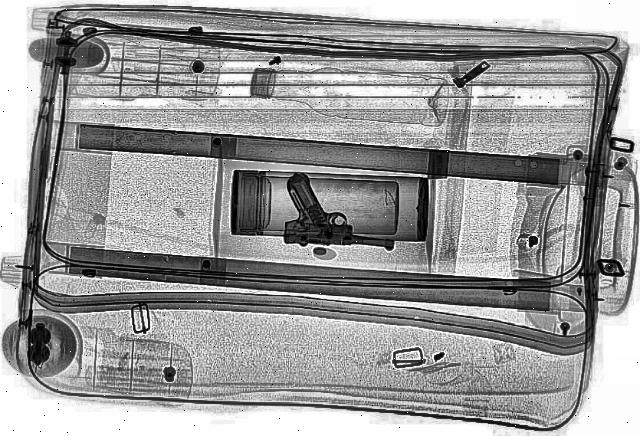Gun: (278, 173, 406, 254)
